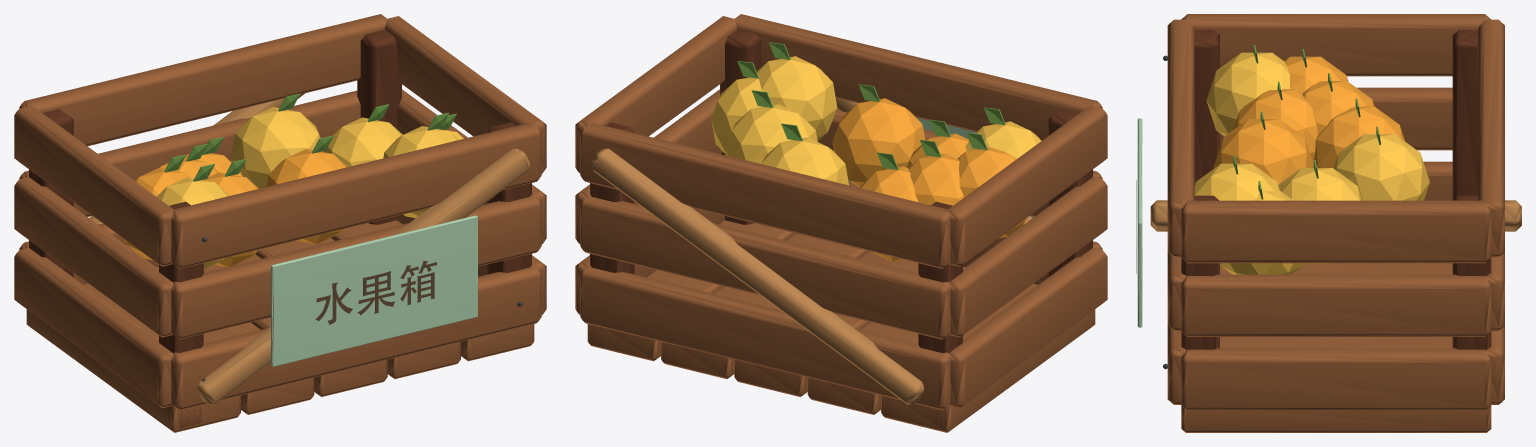
Rendered from fruit_crate.fbx.
The picture shows the model from 3 angles, left to right: view 1: azimuth 30°, elevation 25°; view 2: azimuth 150°, elevation 25°; view 3: azimuth 270°, elevation 25°; orthographic projection. The views are drawn at different scales.
Parts seen in each view (by area): view 1: fruit_crate; view 2: fruit_crate; view 3: fruit_crate.
Part boxes in pixels (bbox=[...]): fruit_crate: bbox=[14, 14, 546, 432]; fruit_crate: bbox=[575, 14, 1107, 432]; fruit_crate: bbox=[1136, 14, 1521, 432].
Bounding box in the file's own units: 60.5 × 34.24 × 49.78.
